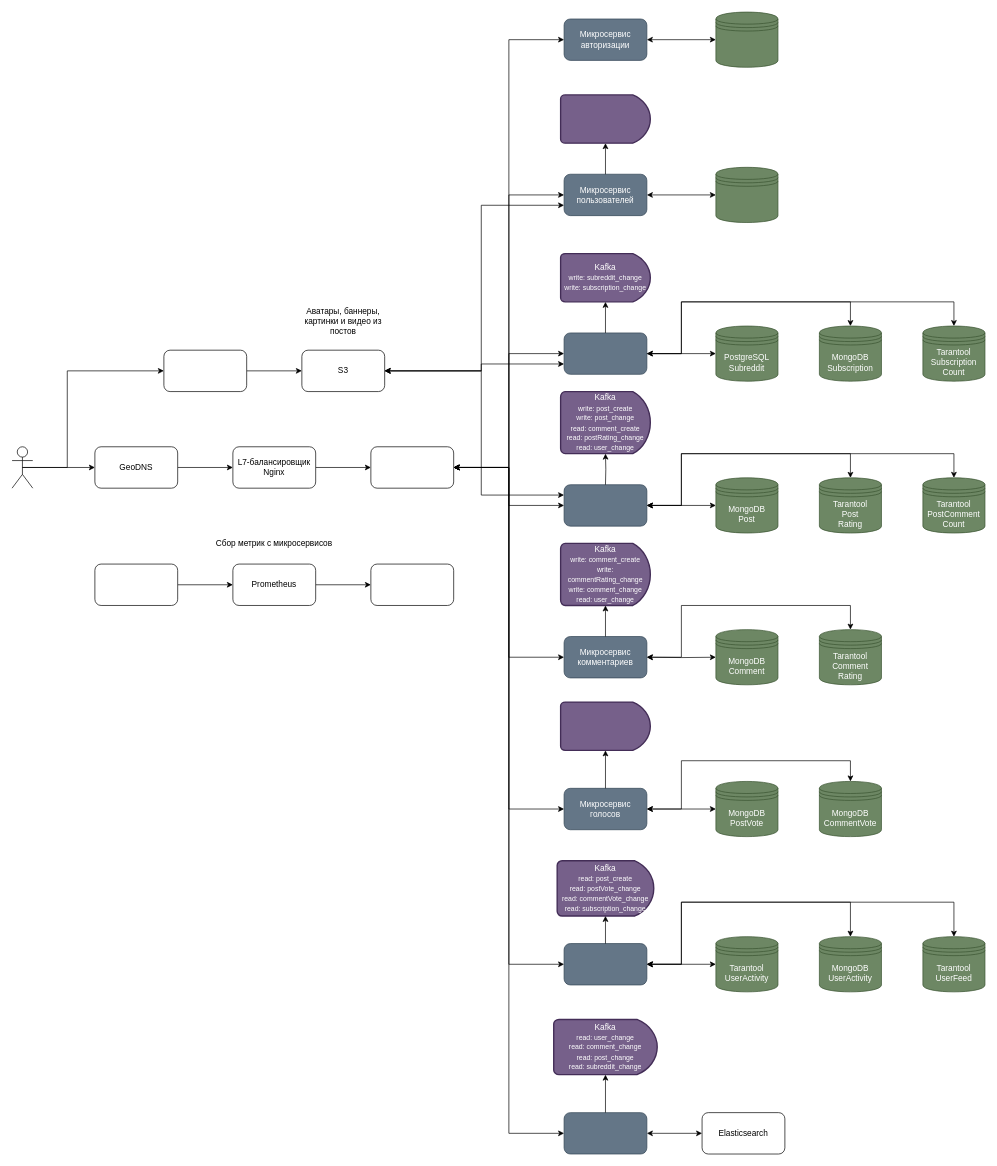
Image size: 997x1166. Some labels were removed from this diagram. Here are the shapes that lost their labels. From the top down, the box of each, then its label:
(715, 11, 778, 67): Redis Session
(560, 94, 651, 144): Kafka write: user_change
(715, 167, 778, 223): PostgreSQL Users
(163, 349, 247, 392): CDN
(563, 332, 647, 374): Микросервис сабреддитов
(11, 446, 33, 488): Client
(370, 446, 454, 488): API Gateway
(563, 484, 647, 526): Микросервис постов
(94, 563, 178, 605): Микросервис
(370, 563, 454, 605): Grafana
(560, 701, 651, 751): Kafka write: postVote_change write: commentVote_change
(563, 943, 647, 985): Микросервис рекомендаций (ML)
(563, 1112, 647, 1154): Микросервис поиска
